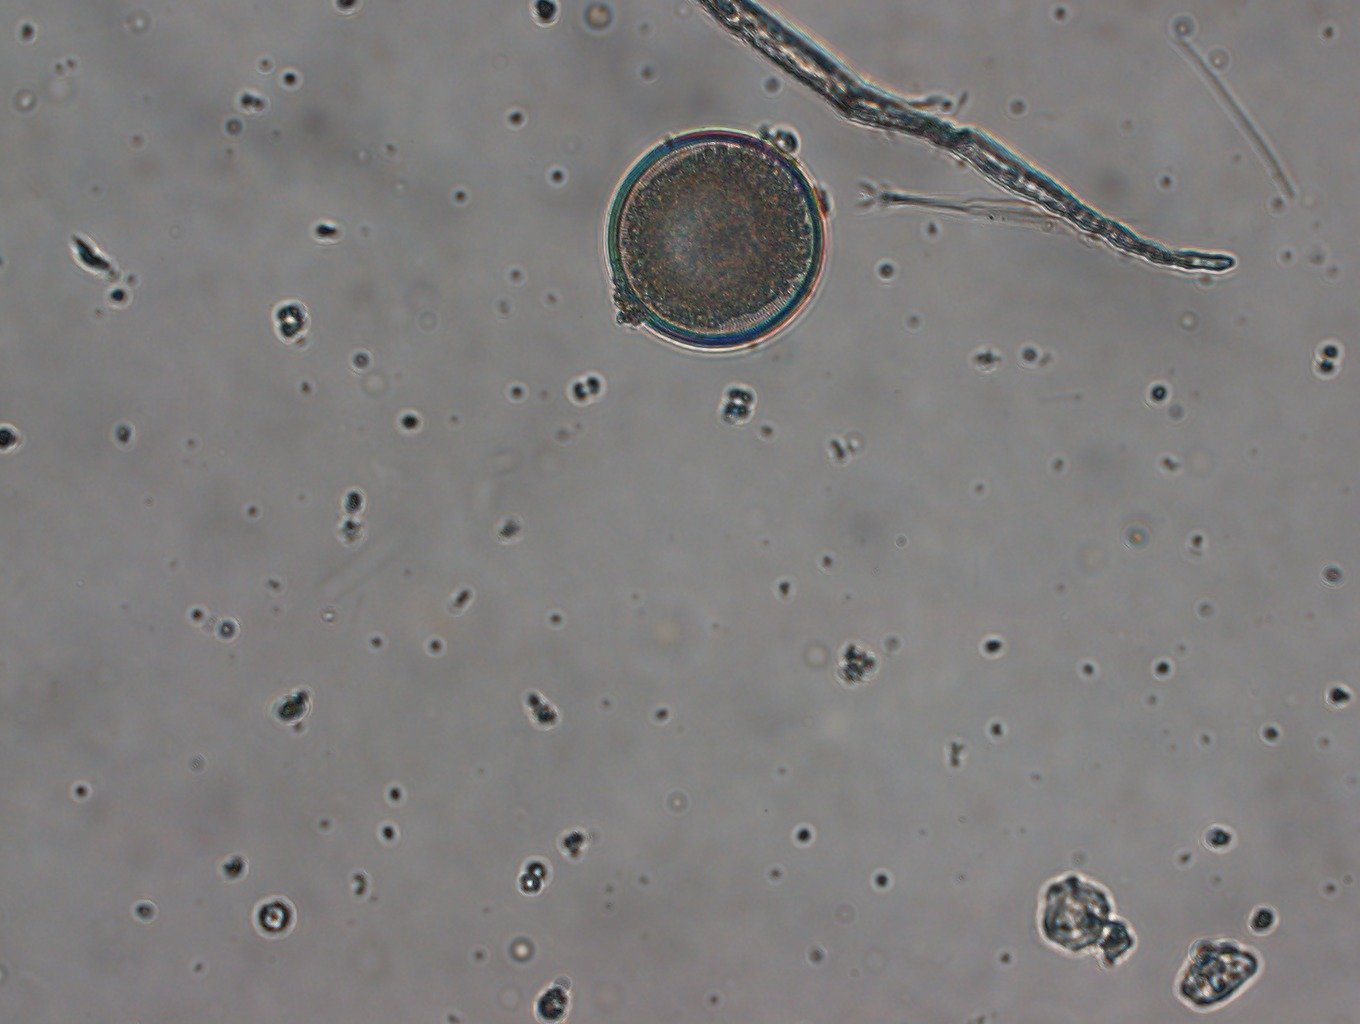coscinodiscus: (603, 125, 825, 355)
